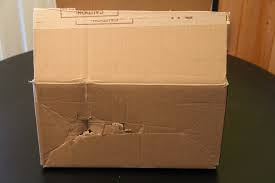damaged package: (42, 101, 169, 160)
